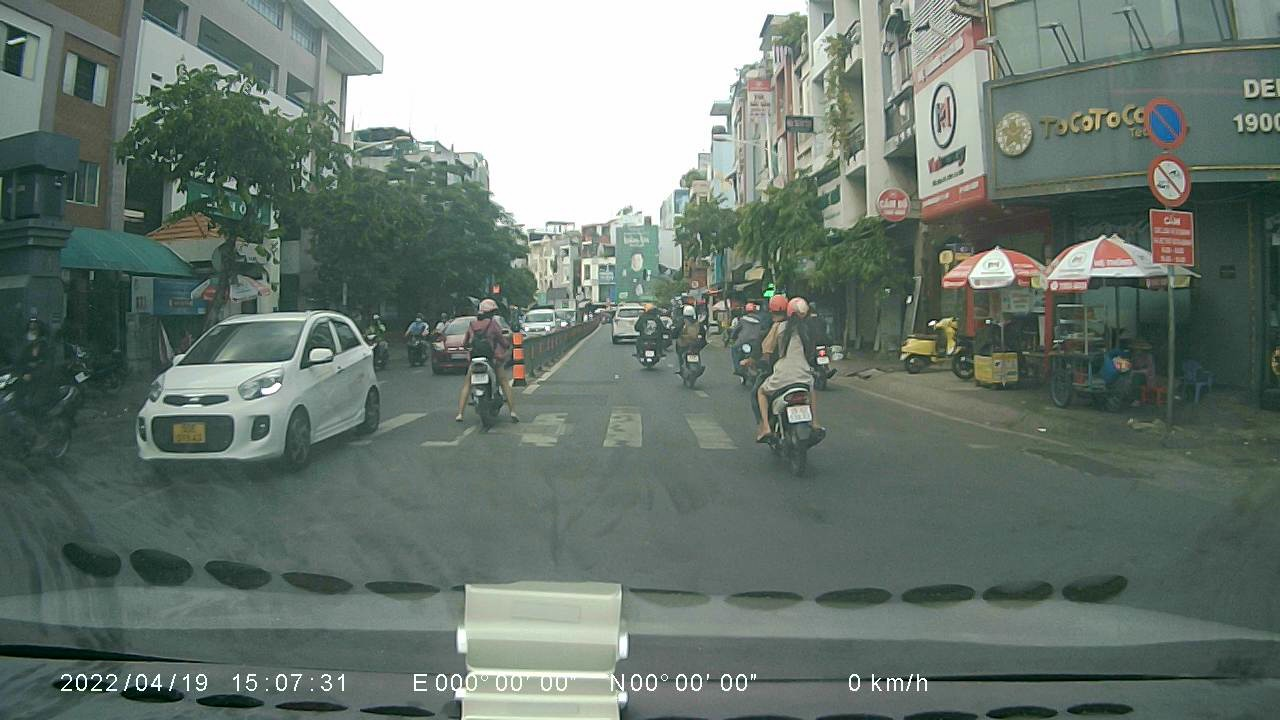Bien khac: (1144, 150, 1197, 209)
Cam do xe: (1142, 93, 1187, 149)
